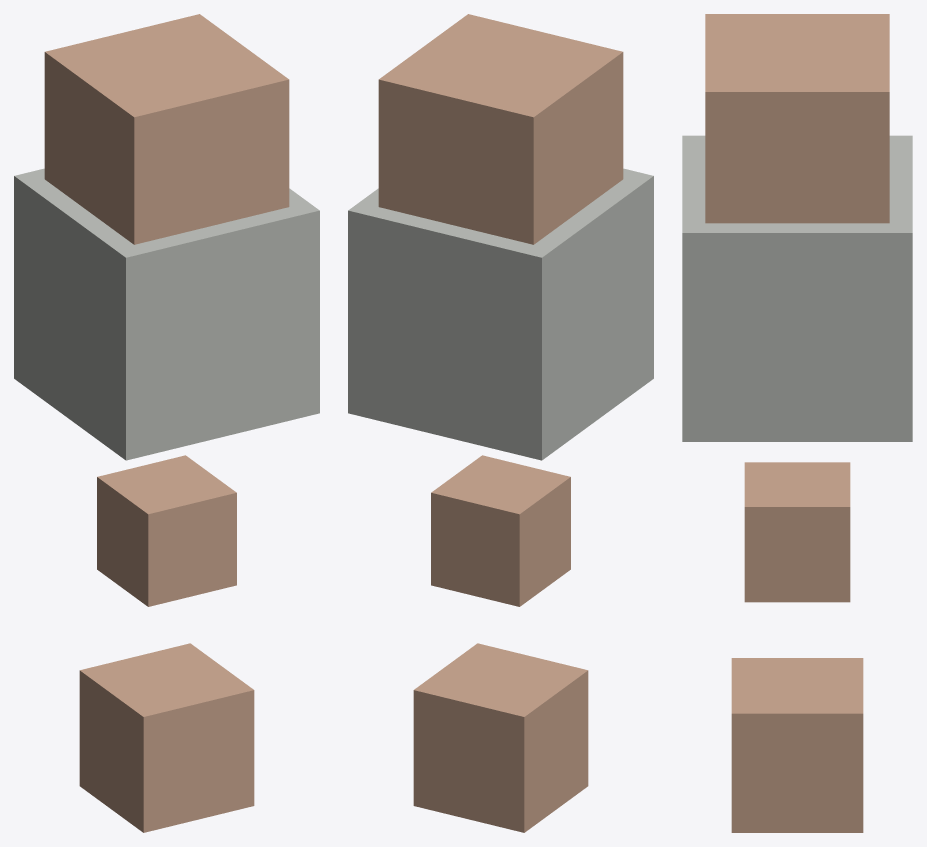
The model's file is ember_prop_lantern_00.glb.
3 views of the same model, side by side, from view 1: azimuth 30°, elevation 25°; view 2: azimuth 150°, elevation 25°; view 3: azimuth 270°, elevation 25° (orthographic). The views are drawn at different scales.
Visible parts, largest first — view 1: ember_prop_lantern_00; view 2: ember_prop_lantern_00; view 3: ember_prop_lantern_00.
Part boxes in pixels (left/top/right/bottom): ember_prop_lantern_00: left=14, top=14, right=319, bottom=832; ember_prop_lantern_00: left=348, top=14, right=653, bottom=832; ember_prop_lantern_00: left=682, top=14, right=912, bottom=832.
Bounding box in the file's own units: 0.343 × 1.24 × 0.343.
